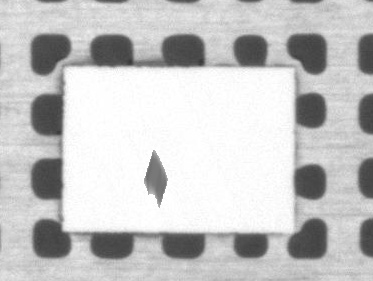DIE_INK: (142, 150, 168, 207)
